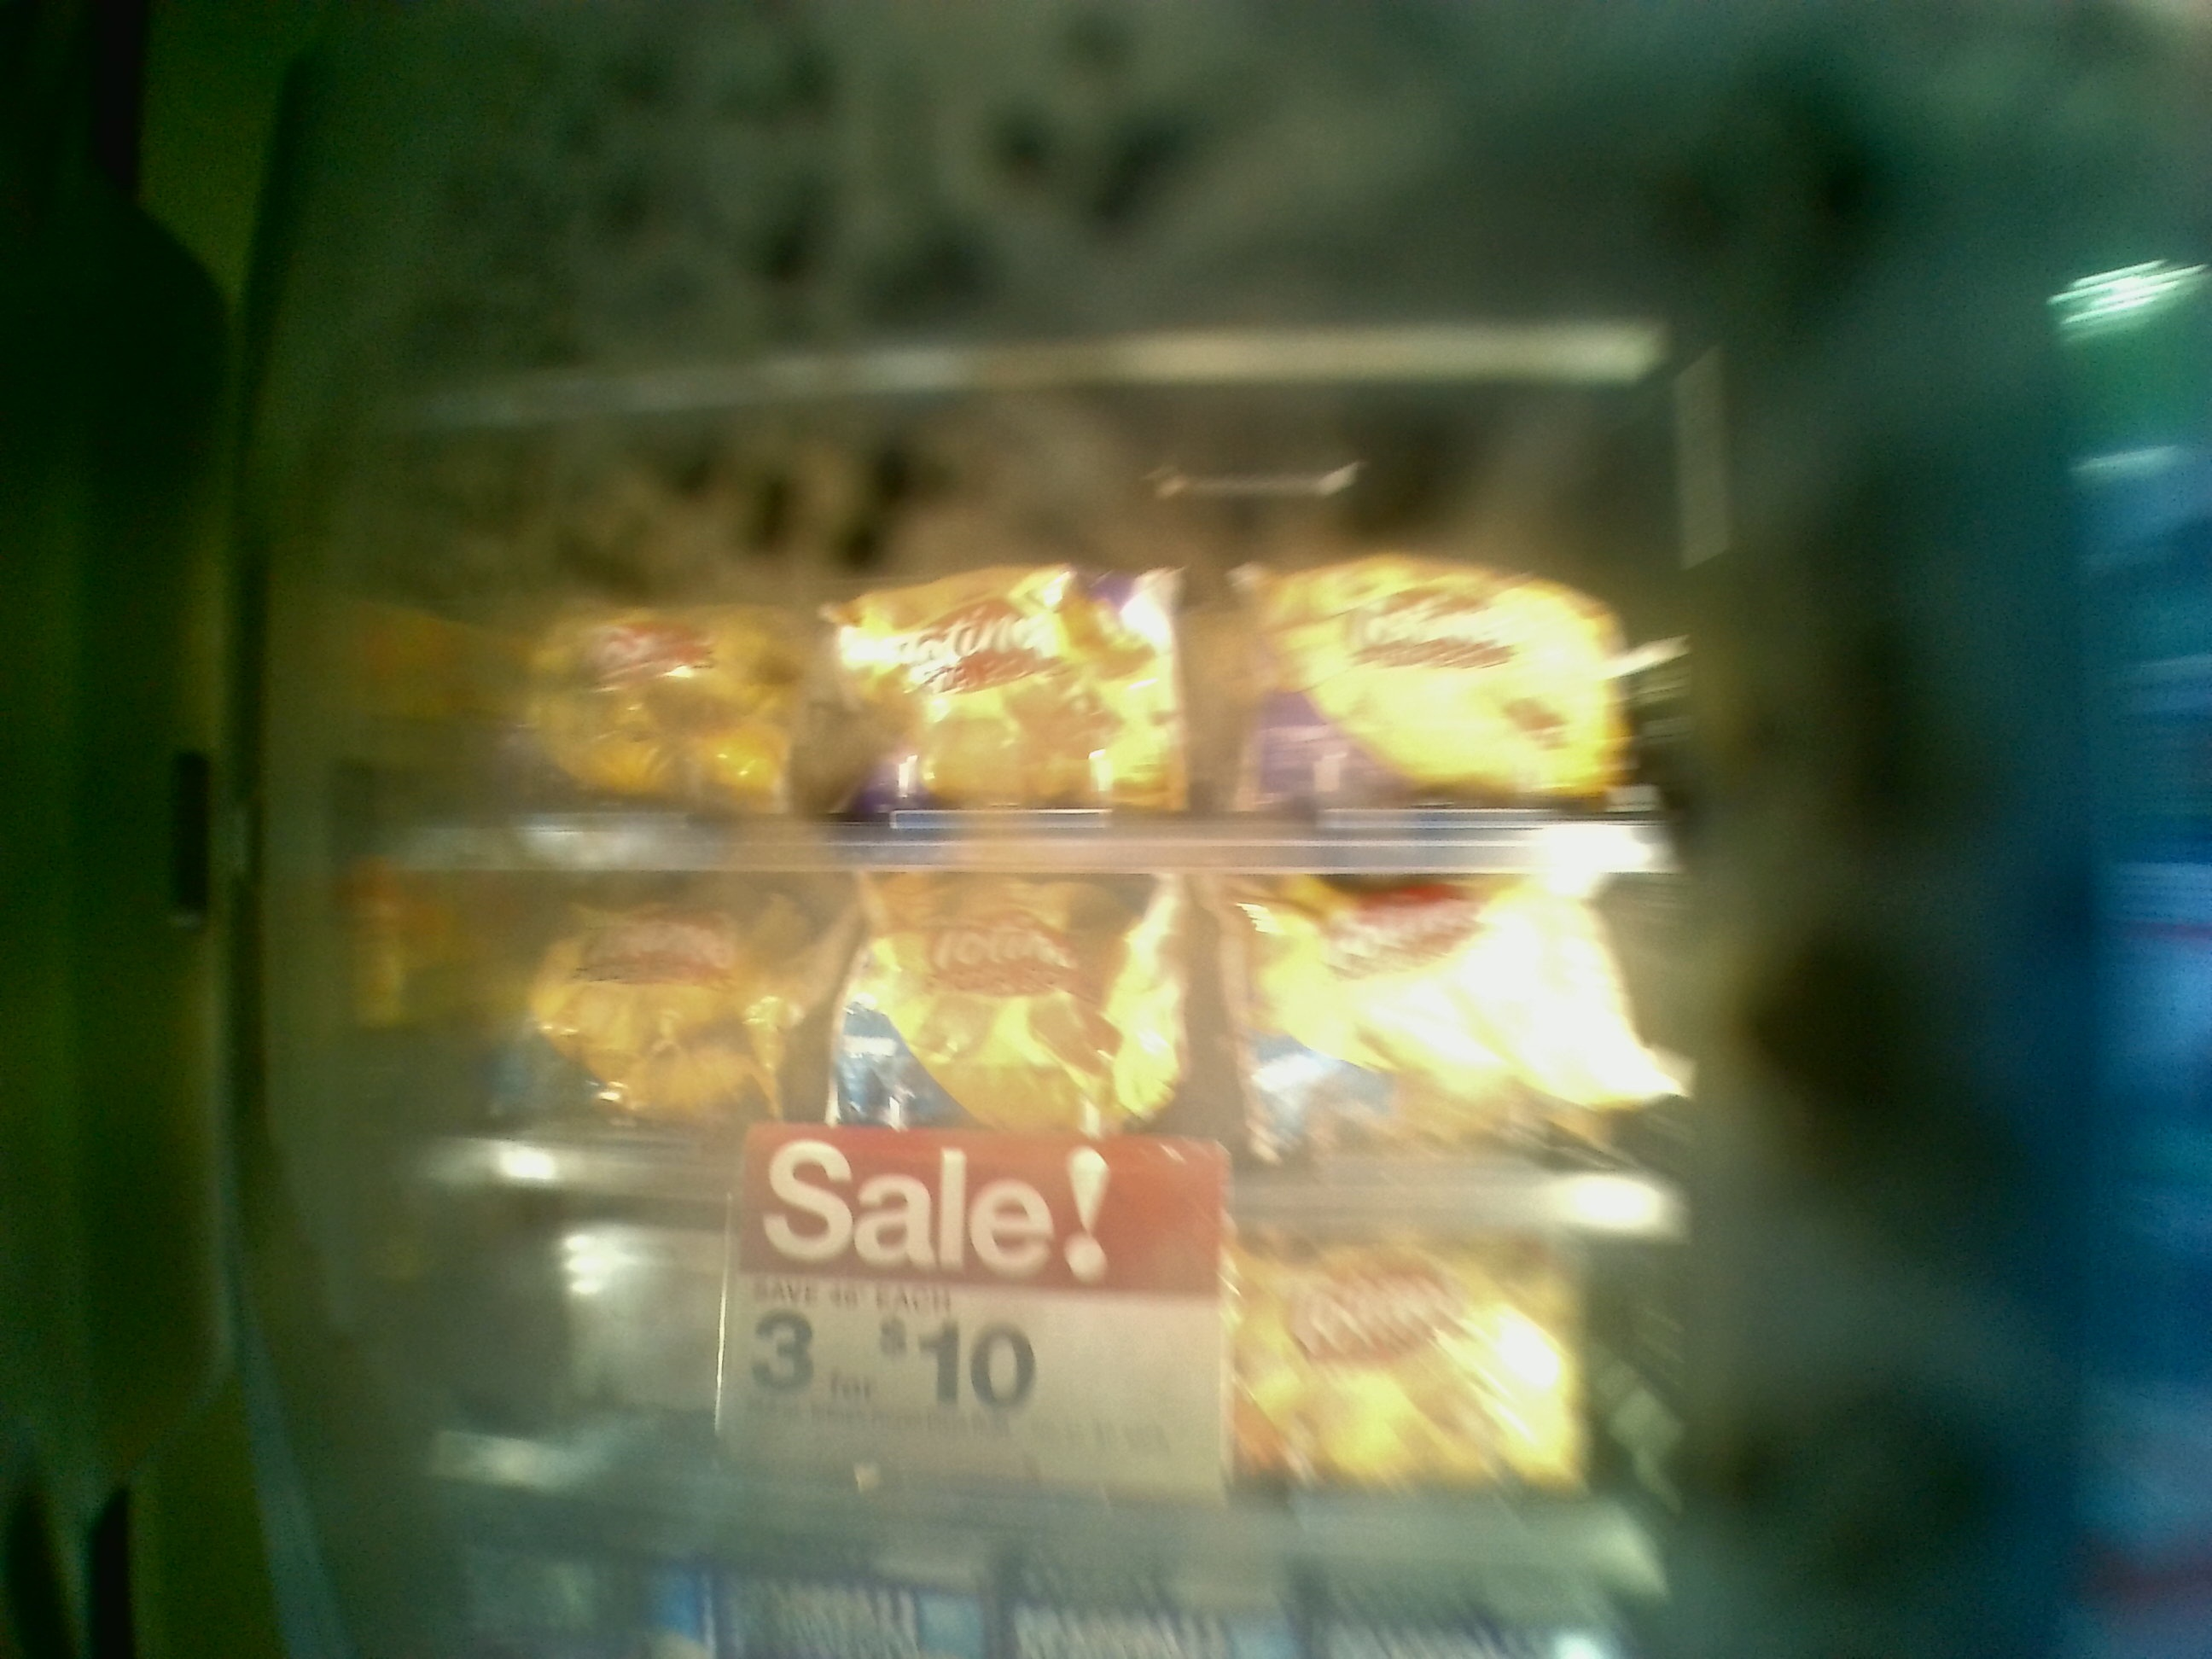shelf: (368, 331, 1686, 849), (361, 828, 1686, 1234)
